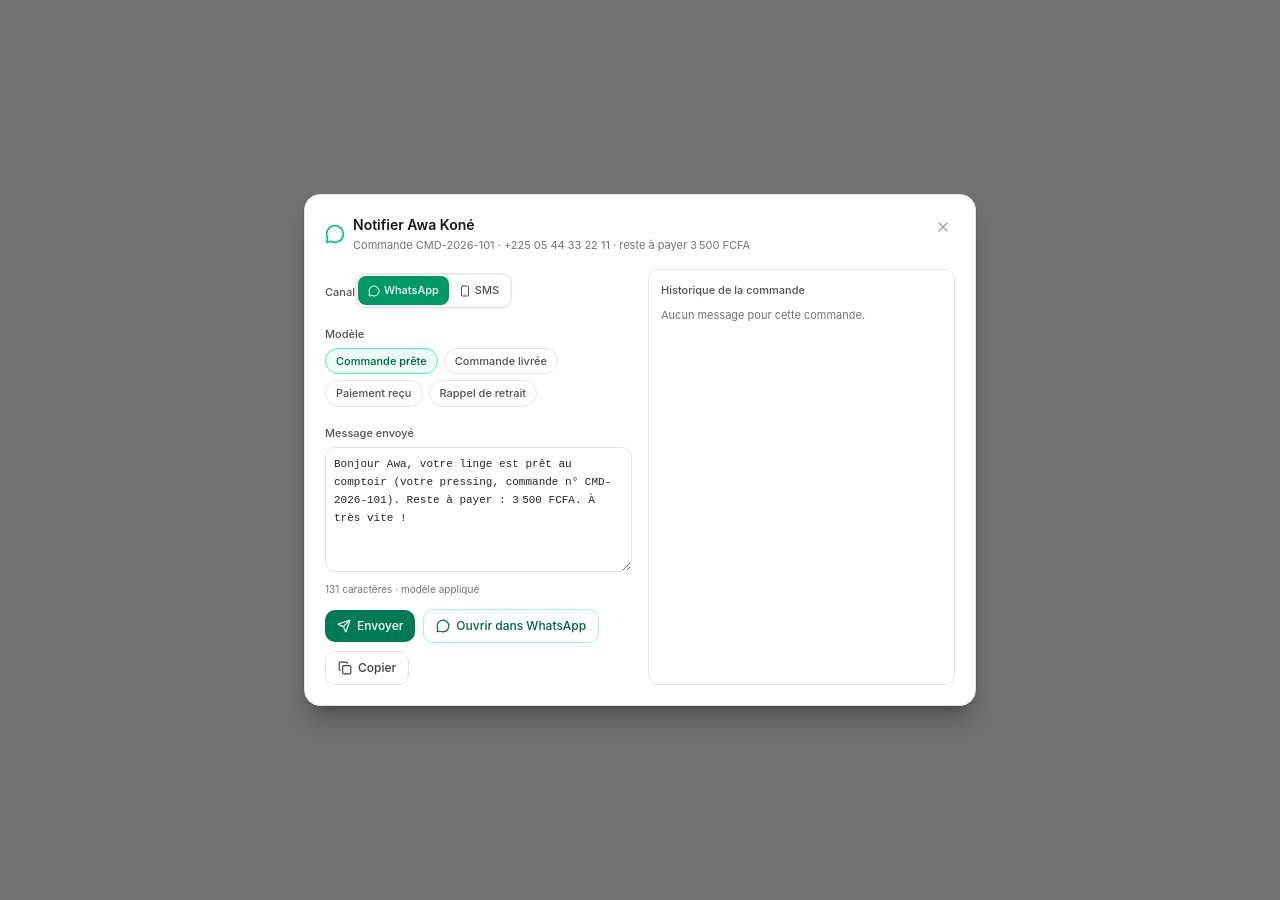
it: ClientNotificationModal › affiche l’offre commerciale quand l’envoi serveur est verrouillé (402)
Expected: the list item "Aucun message pour cette commande." is shown, [661,308,865,322]
Click the button "Envoyer".
click(370, 626)  # box [325,610,415,642]
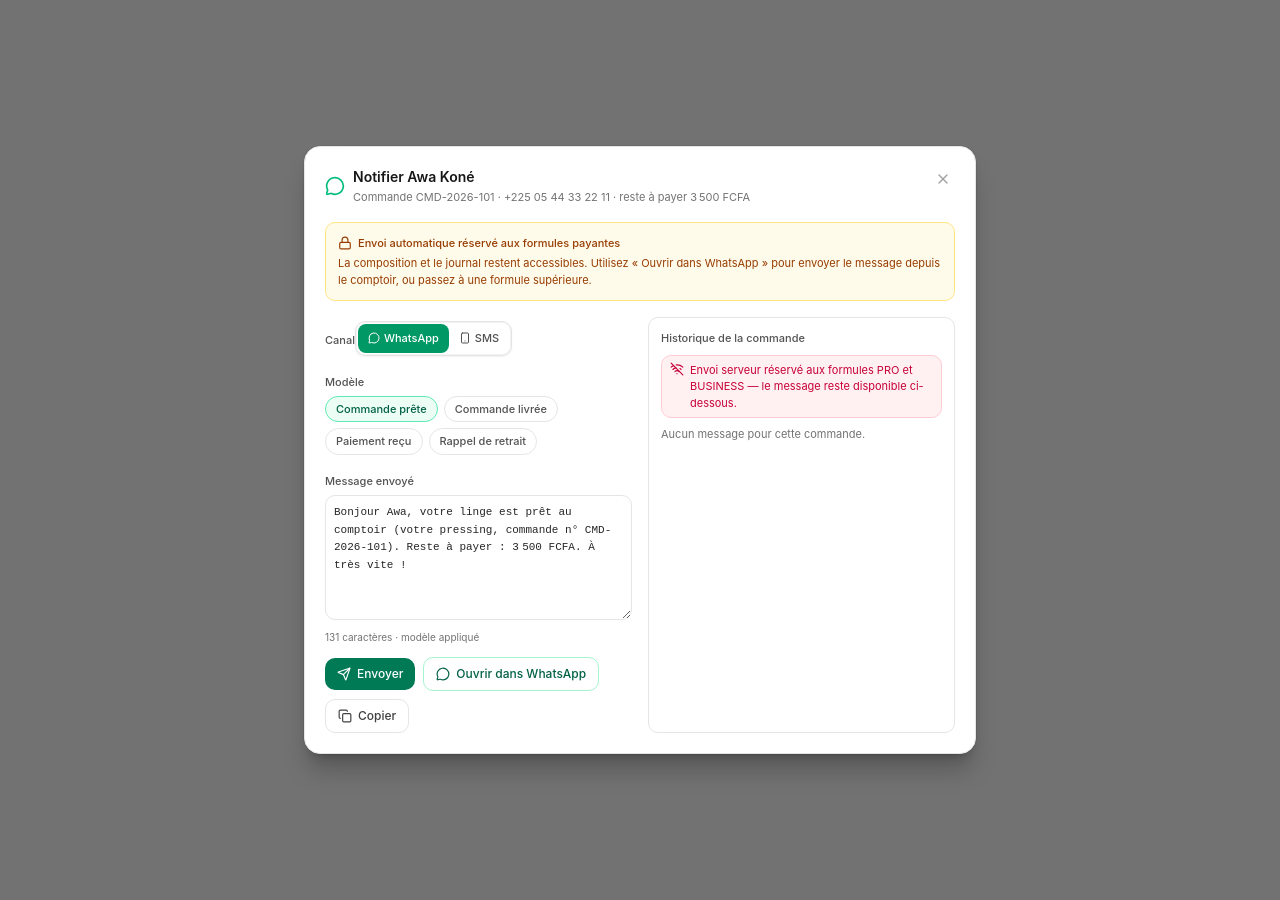
Expected: the link "Ouvrir dans WhatsApp" is shown, [423,657,599,691]
Now the text "Envoi automatique réservé aux formules payantes" is shown, box [338,236,620,250]
